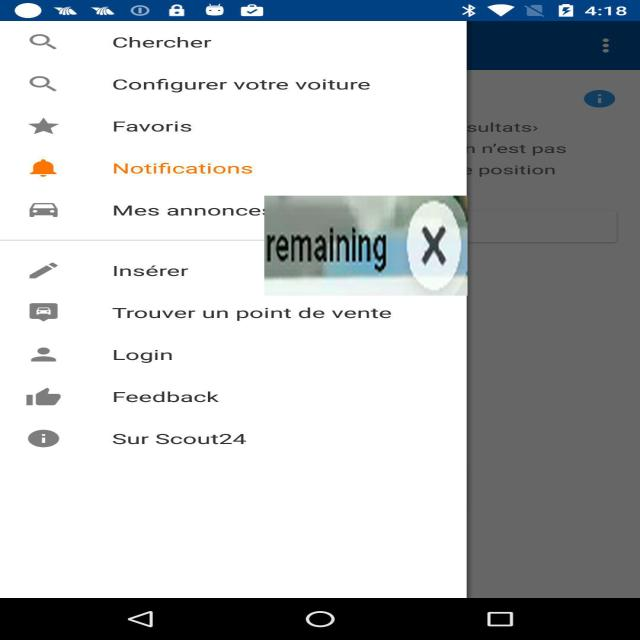misdirection: (264, 196, 468, 296)
